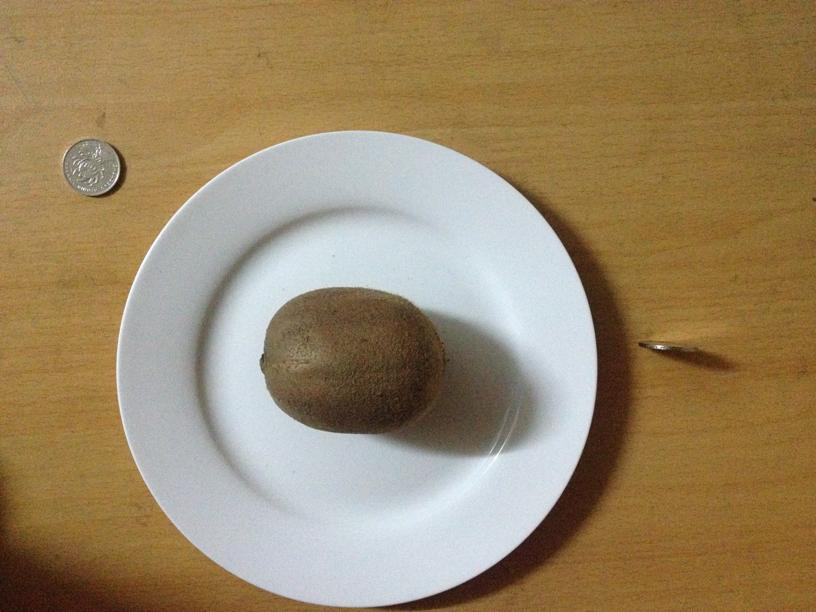coin: (56, 137, 126, 197)
qiwi: (258, 288, 446, 433)
